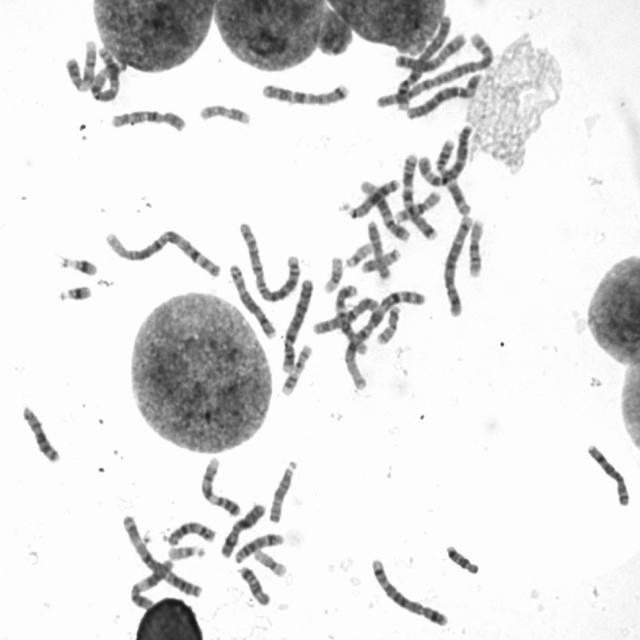A1: (338, 283, 428, 391), (100, 223, 224, 279)
A2: (377, 26, 493, 110), (234, 216, 302, 303)
A3: (117, 508, 205, 599), (86, 40, 123, 103)
B4: (387, 9, 454, 111), (276, 272, 315, 374)
B5: (365, 552, 451, 628), (438, 209, 475, 318)
C10: (308, 291, 380, 336), (105, 104, 187, 134)
C11: (432, 135, 474, 216), (125, 554, 176, 612)
C12: (356, 173, 412, 243), (386, 31, 471, 74)
C6: (402, 67, 486, 121), (414, 119, 475, 187)
C7: (398, 149, 440, 241), (256, 76, 351, 107)
C8: (224, 257, 278, 340), (582, 439, 632, 508)
C9: (196, 452, 243, 518), (61, 33, 100, 93)
D13: (16, 398, 62, 464), (339, 172, 402, 219)
D14: (230, 528, 284, 564), (160, 516, 218, 546)
D15: (264, 454, 300, 524), (362, 215, 393, 281)
E16: (390, 184, 443, 224), (463, 212, 487, 279)
E17: (278, 339, 314, 396), (194, 97, 253, 126)
E18: (234, 560, 272, 607), (441, 539, 480, 575)
F19: (250, 544, 289, 578), (318, 250, 345, 295)
F20: (356, 243, 403, 274), (373, 301, 403, 346)
G21: (54, 250, 99, 278), (52, 278, 94, 303)
G22: (341, 236, 374, 269), (164, 540, 207, 562)
X: (308, 291, 380, 336), (216, 497, 267, 559)
